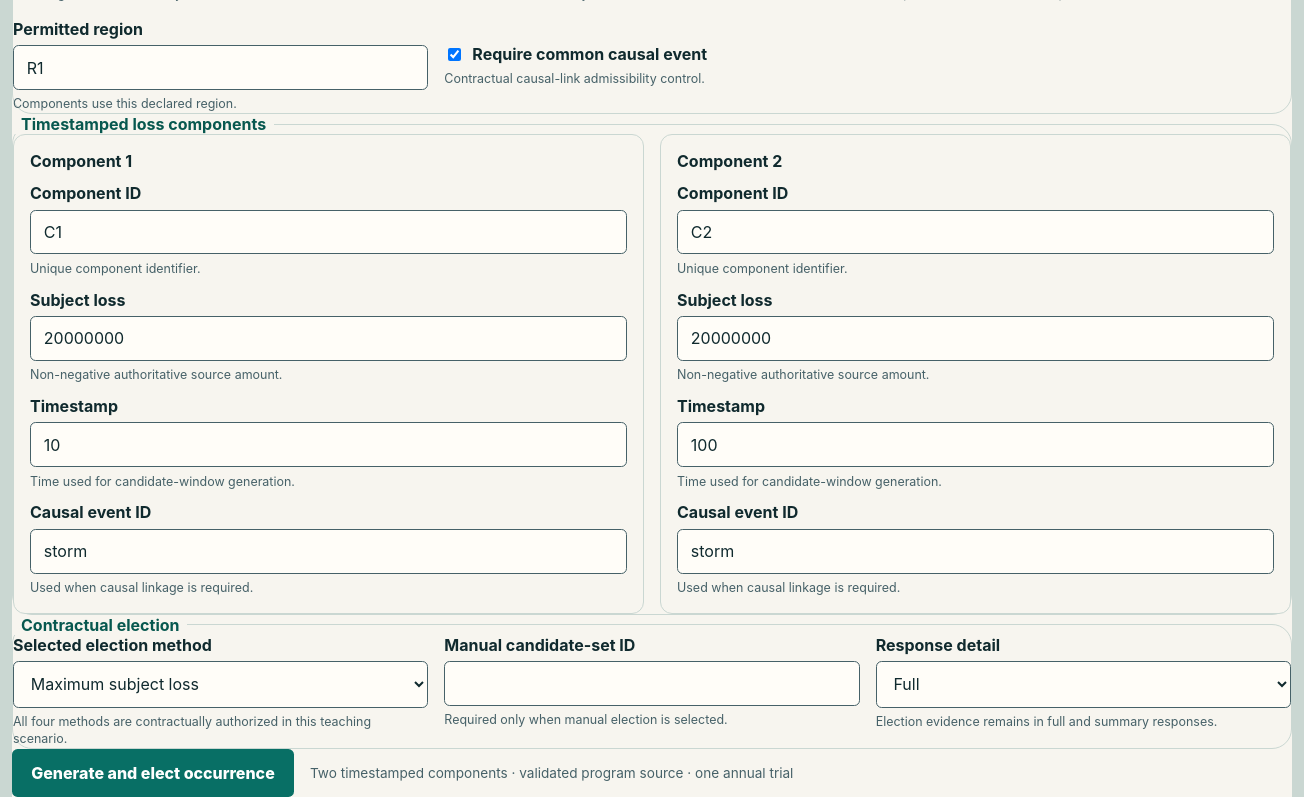
Hours-Clause Lab workflow › submits to the dedicated route and renders election plus exclusion evidence
This screenshot has width=1304, height=797.
(page scrolled)
What coordinates should you click on to do the following:
click the button "Generate and elect occurrence"
I would click on:
 (153, 773)
Its box is [12, 749, 294, 796].
(page scrolled)
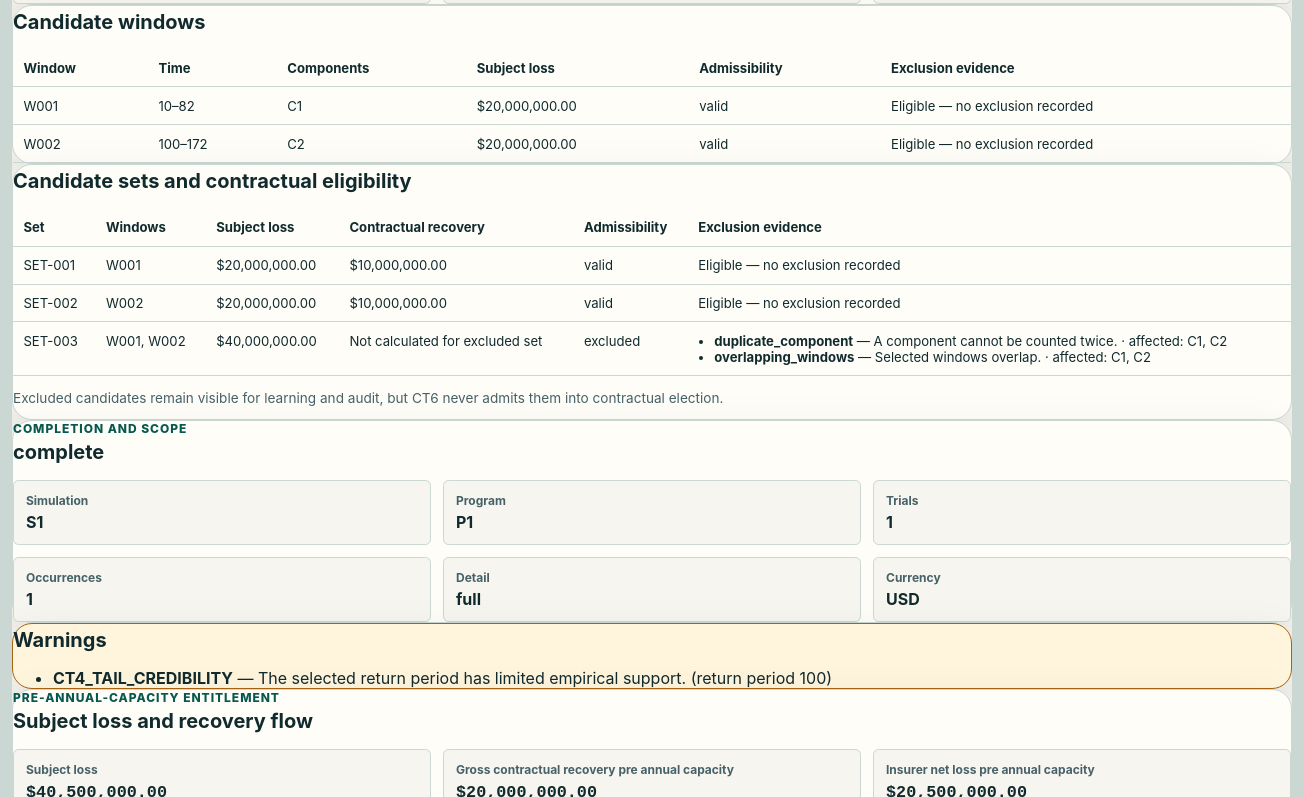
Expected: the text "SET-003" is shown, [13, 322, 96, 376]
Expected: the text "duplicate_component" is shown, [714, 333, 853, 349]
Expected: the text "Not calculated for excluded set" is shown, [339, 322, 574, 376]
